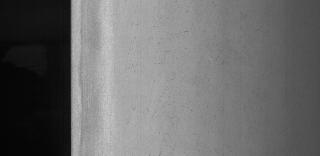silk spot: (122, 12, 218, 114)
